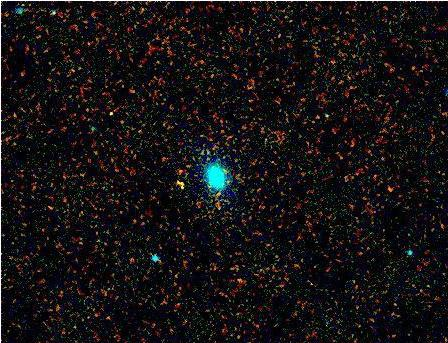star: (166, 170, 196, 200)
